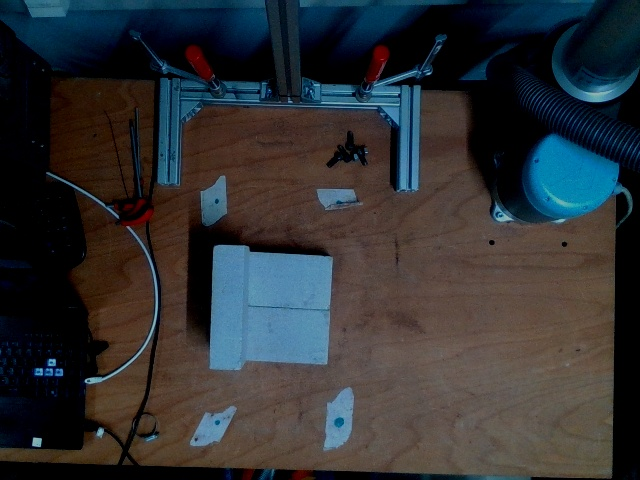brick-side: (208, 247, 246, 369)
